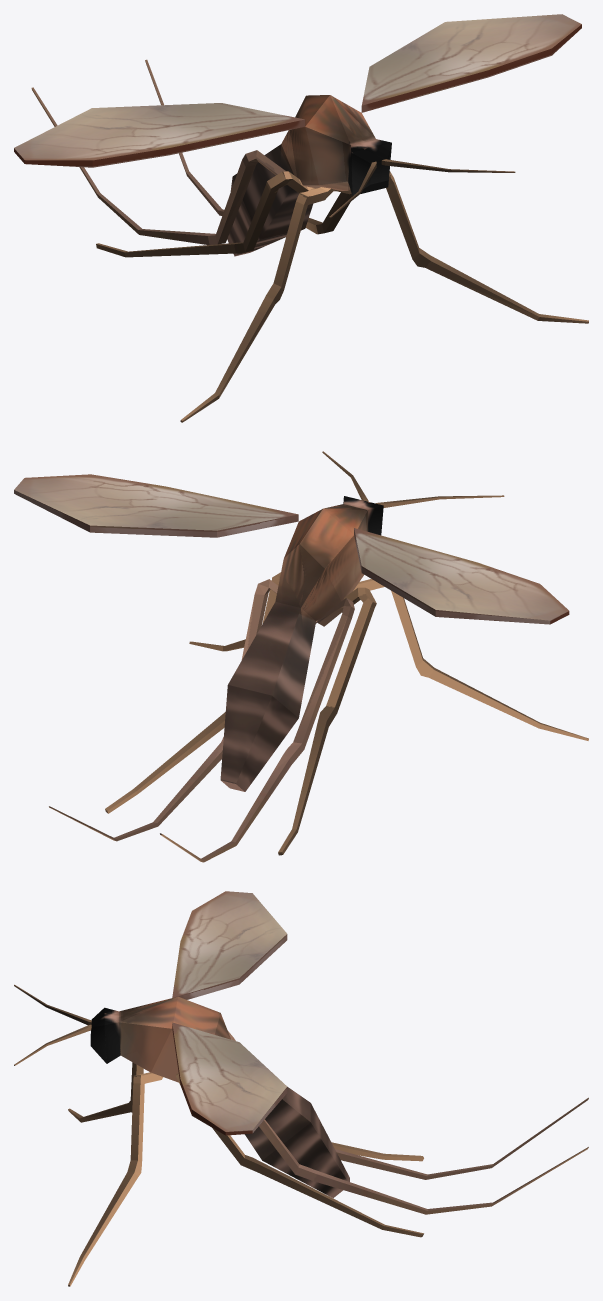
Rendered from 02_Mosquito.fbx.
3 renders of one model, top to bottom at view 1: azimuth 30°, elevation 25°; view 2: azimuth 150°, elevation 25°; view 3: azimuth 270°, elevation 25°, orthographic. The views are drawn at different scales.
Visible parts, largest first — view 1: Mosquito_seprate, 03_Bee.003, 03_Bee.004; view 2: Mosquito_seprate, 03_Bee.004, 03_Bee.003; view 3: Mosquito_seprate, 03_Bee.004, 03_Bee.003.
Part boxes in pixels (x1,y1,x2,y2): Mosquito_seprate: [31, 59, 588, 422]; 03_Bee.003: [14, 103, 305, 167]; 03_Bee.004: [361, 14, 581, 112]; Mosquito_seprate: [49, 451, 588, 862]; 03_Bee.004: [14, 474, 298, 537]; 03_Bee.003: [354, 528, 569, 624]; Mosquito_seprate: [14, 984, 588, 1286]; 03_Bee.004: [172, 1022, 287, 1135]; 03_Bee.003: [172, 891, 287, 999].
Bounding box in the file's own units: 0.0139 × 0.00552 × 0.014.
Materials: 1 (1 with a texture image).
